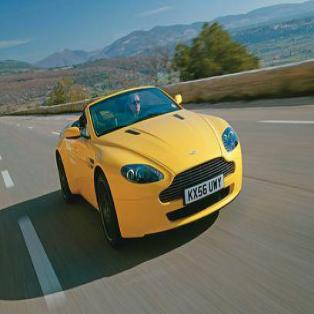Auto: (55, 83, 242, 249)
